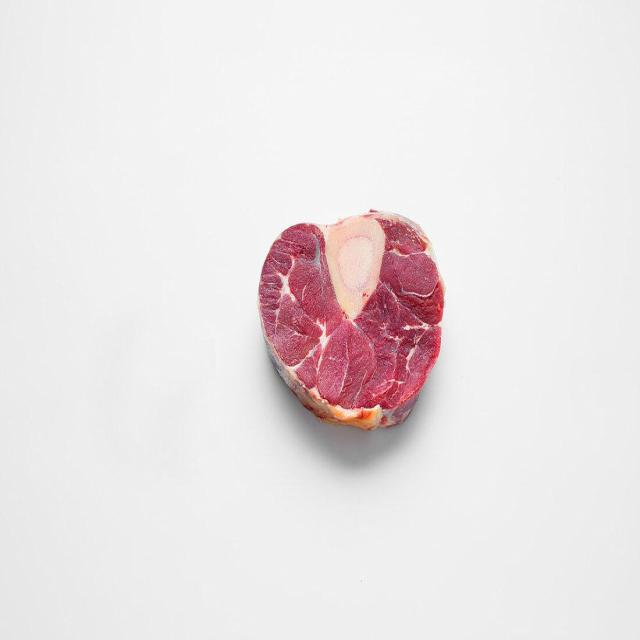Beef: (247, 189, 452, 452)
